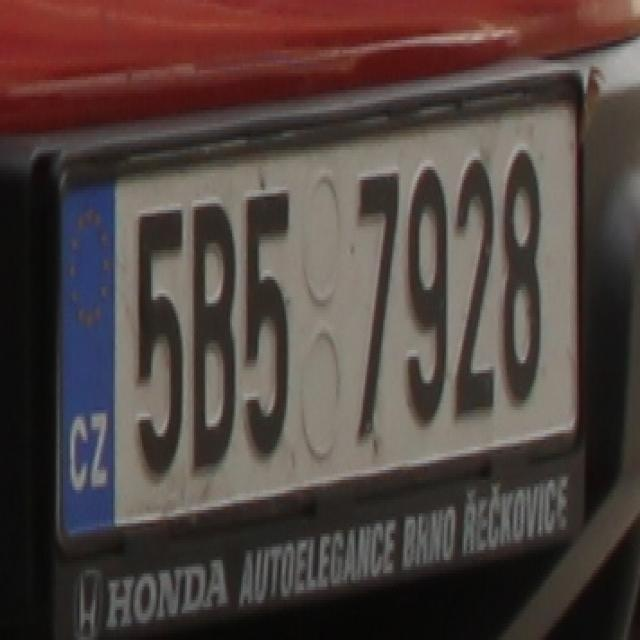2: (451, 153, 500, 407)
5: (129, 203, 189, 480), (243, 190, 289, 450)
7: (350, 163, 396, 440)
8: (498, 146, 543, 406)
9: (406, 160, 448, 420)
B: (187, 200, 235, 480)
